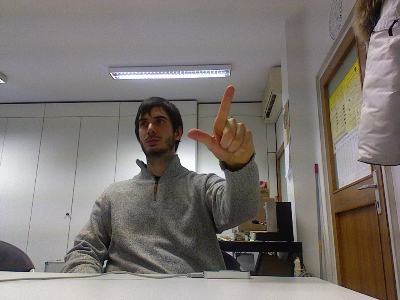枪: (186, 83, 254, 165)
